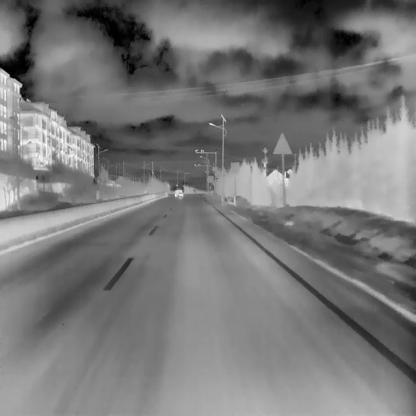car: (173, 184, 183, 196)
